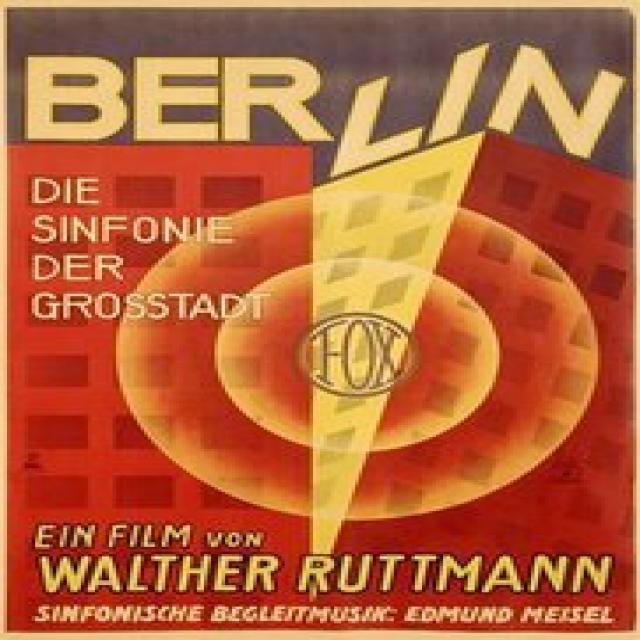movie-judul: (12, 39, 633, 182)
